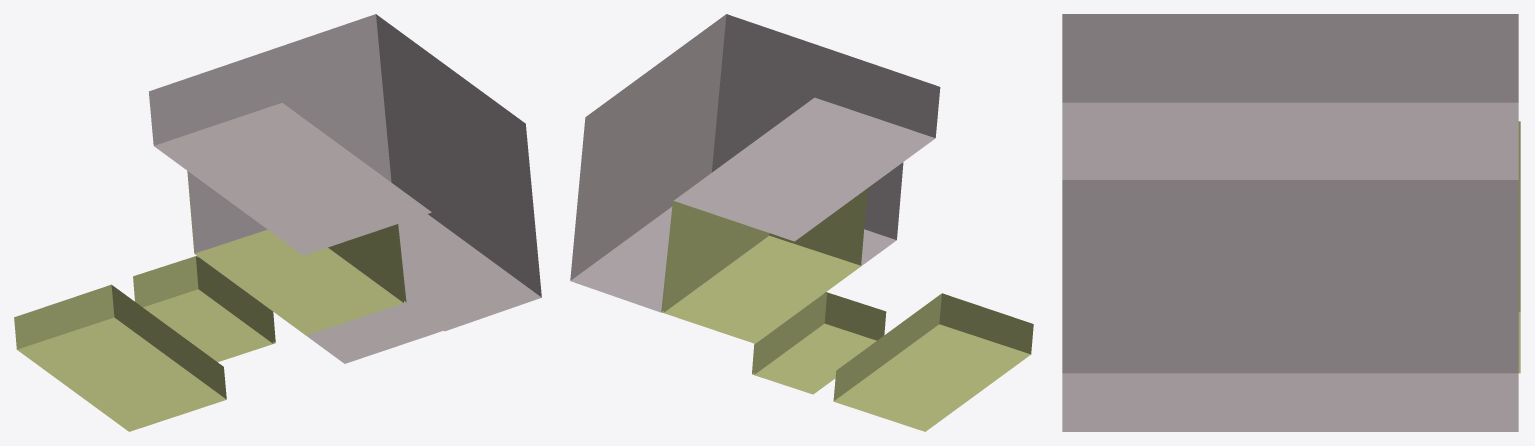
3 renders of one model, left to right at view 1: azimuth 30°, elevation 25°; view 2: azimuth 150°, elevation 25°; view 3: azimuth 270°, elevation 25°, orthographic. The views are drawn at different scales.
Visible parts, largest first — view 1: 0_2_3_3_3_1_0_1_3_1; view 2: 0_2_3_3_3_1_0_1_3_1; view 3: 0_2_3_3_3_1_0_1_3_1.
Boxes of the visible parts, left/top/right/bottom form: 0_2_3_3_3_1_0_1_3_1: left=14, top=14, right=541, bottom=431; 0_2_3_3_3_1_0_1_3_1: left=570, top=14, right=1033, bottom=431; 0_2_3_3_3_1_0_1_3_1: left=1062, top=14, right=1520, bottom=431.
Size of the model in its own units: 17.52 by 10.92 by 12.05.
